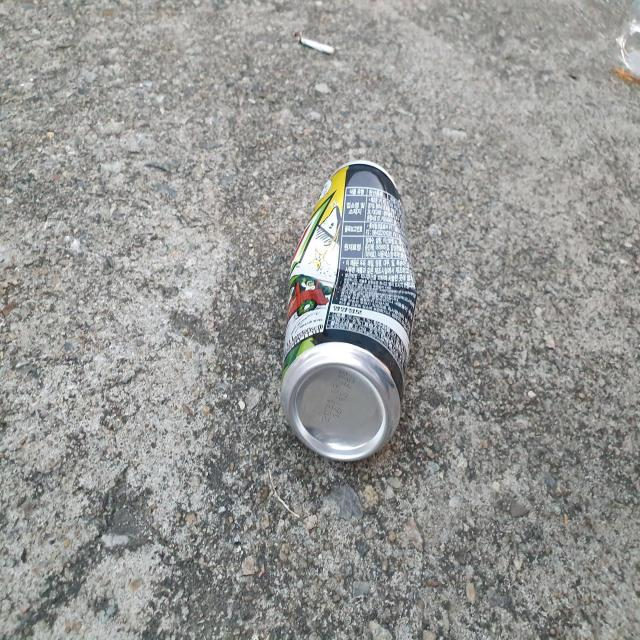can: (281, 160, 417, 461)
